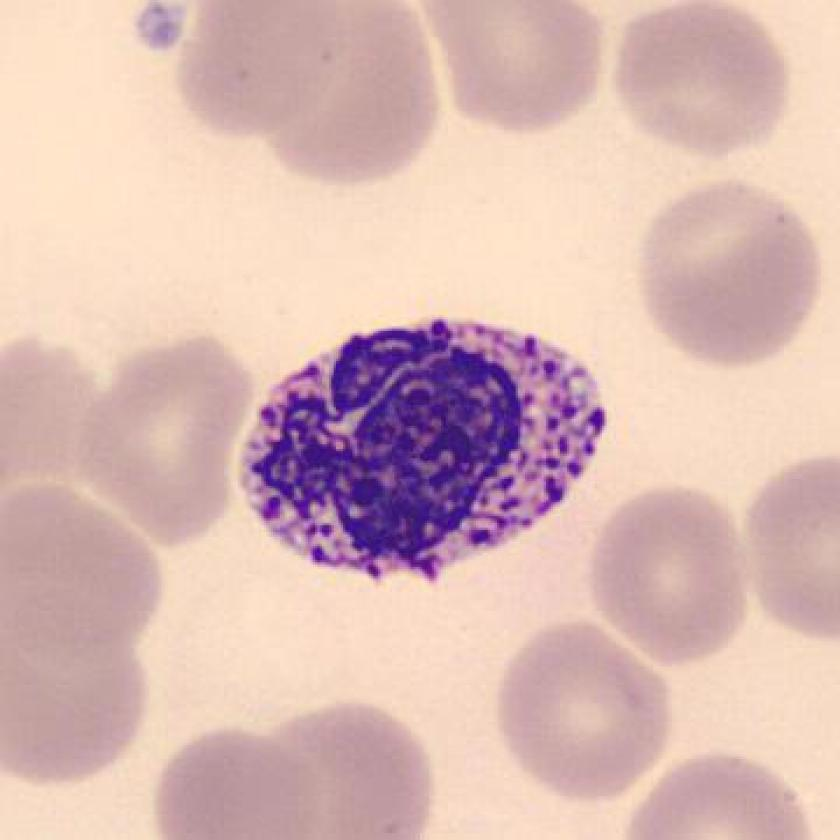basophil: (234, 311, 622, 577)
